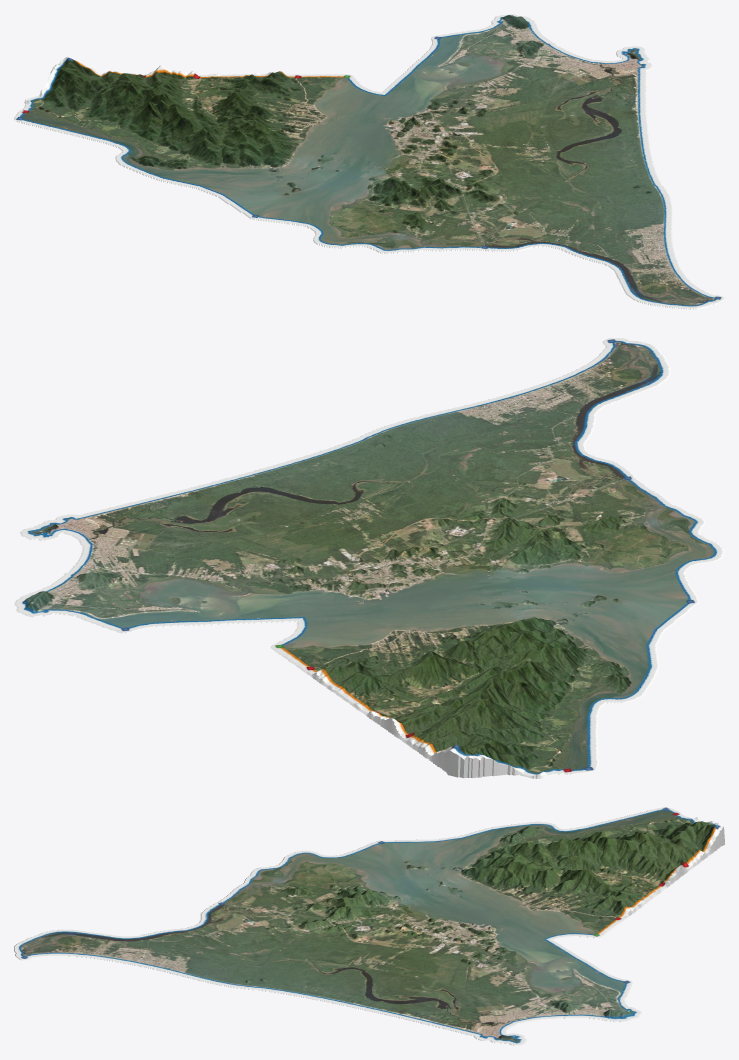
3 views of the same model, one above another, from view 1: azimuth 30°, elevation 25°; view 2: azimuth 150°, elevation 25°; view 3: azimuth 270°, elevation 25° (orthographic). The views are drawn at different scales.
Bounding box in the file's own units: 0.9999 × 0.04 × 1.26.
Materials: 1 (1 with a texture image).
